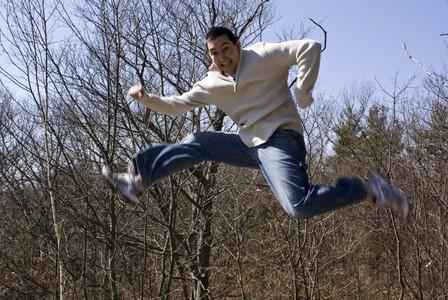person: (101, 23, 412, 223)
